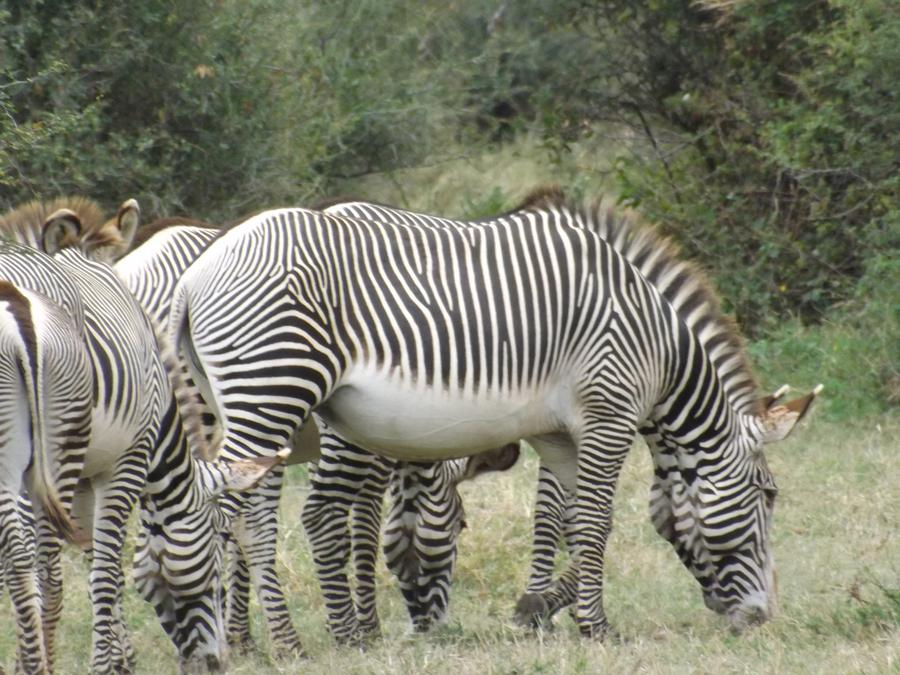zebra_grevys: (187, 204, 640, 440)
